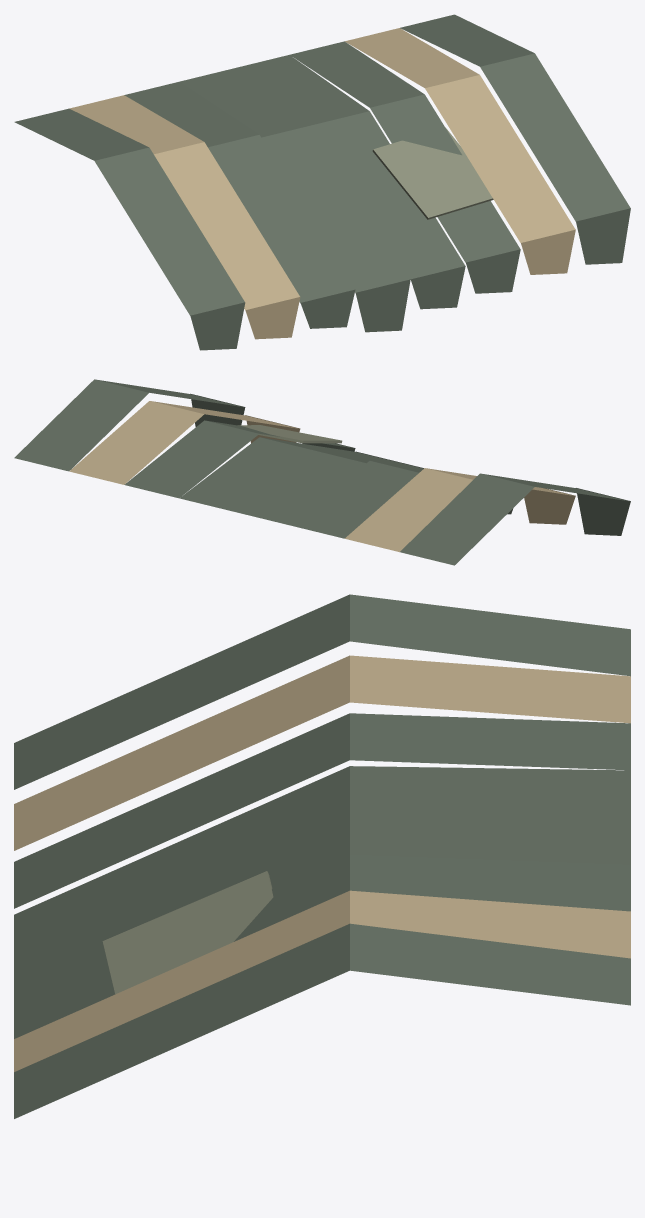
File: awning_green.glb
3 views of the same model, one above another, from view 1: azimuth 30°, elevation 25°; view 2: azimuth 150°, elevation 25°; view 3: azimuth 270°, elevation 25° (orthographic). The views are drawn at different scales.
Parts seen in each view (by area): view 1: sun-faded canvas.003, sun-faded canvas.006, sun-faded canvas.007, sun-faded canvas, sun-faded canvas.002, sun-faded canvas.004, sun-faded canvas.001, sun-faded canvas.005, stitched canvas patch, frayed valance.007, frayed valance.003, frayed valance (+5 smaller); view 2: sun-faded canvas.007, sun-faded canvas, sun-faded canvas.006, sun-faded canvas.004, sun-faded canvas.001, sun-faded canvas.005, sun-faded canvas.003, sun-faded canvas.002, frayed valance, frayed valance.001, frayed valance.007, stitched canvas patch (+1 smaller); view 3: sun-faded canvas.002, sun-faded canvas.003, sun-faded canvas, sun-faded canvas.001, sun-faded canvas.007, sun-faded canvas.004, sun-faded canvas.006, sun-faded canvas.005, stitched canvas patch.
Boxes of the visible parts, left/top/right/bottom form: sun-faded canvas.003: left=179, top=68, right=410, bottom=292; sun-faded canvas.006: left=345, top=28, right=575, bottom=242; sun-faded canvas.007: left=400, top=14, right=630, bottom=221; sun-faded canvas: left=14, top=108, right=244, bottom=315; sun-faded canvas.002: left=124, top=82, right=354, bottom=302; sun-faded canvas.004: left=234, top=55, right=465, bottom=279; sun-faded canvas.001: left=69, top=95, right=299, bottom=310; sun-faded canvas.005: left=289, top=41, right=520, bottom=262; stitched canvas patch: left=372, top=127, right=493, bottom=219; frayed valance.007: left=576, top=208, right=630, bottom=264; frayed valance.003: left=355, top=279, right=410, bottom=332; frayed valance: left=190, top=302, right=245, bottom=350; sun-faded canvas.007: left=14, top=379, right=243, bottom=471; sun-faded canvas: left=400, top=473, right=628, bottom=565; sun-faded canvas.006: left=69, top=401, right=298, bottom=484; sun-faded canvas.004: left=179, top=437, right=408, bottom=511; sun-faded canvas.001: left=345, top=468, right=574, bottom=551; sun-faded canvas.005: left=124, top=420, right=353, bottom=498; sun-faded canvas.003: left=234, top=450, right=423, bottom=525; sun-faded canvas.002: left=290, top=461, right=423, bottom=538; frayed valance: left=576, top=488, right=630, bottom=535; frayed valance.001: left=524, top=488, right=575, bottom=524; frayed valance.007: left=190, top=393, right=245, bottom=426; stitched canvas patch: left=238, top=425, right=342, bottom=443; sun-faded canvas.002: left=14, top=713, right=630, bottom=908; sun-faded canvas.003: left=14, top=766, right=630, bottom=961; sun-faded canvas: left=14, top=594, right=630, bottom=789; sun-faded canvas.001: left=14, top=655, right=630, bottom=850; sun-faded canvas.007: left=14, top=923, right=630, bottom=1118; sun-faded canvas.004: left=14, top=813, right=630, bottom=1002; sun-faded canvas.006: left=14, top=890, right=630, bottom=1071; sun-faded canvas.005: left=14, top=854, right=630, bottom=1038; stitched canvas patch: left=102, top=871, right=273, bottom=994.
Bounding box in the file's own units: 1.14 × 0.3737 × 0.79.
